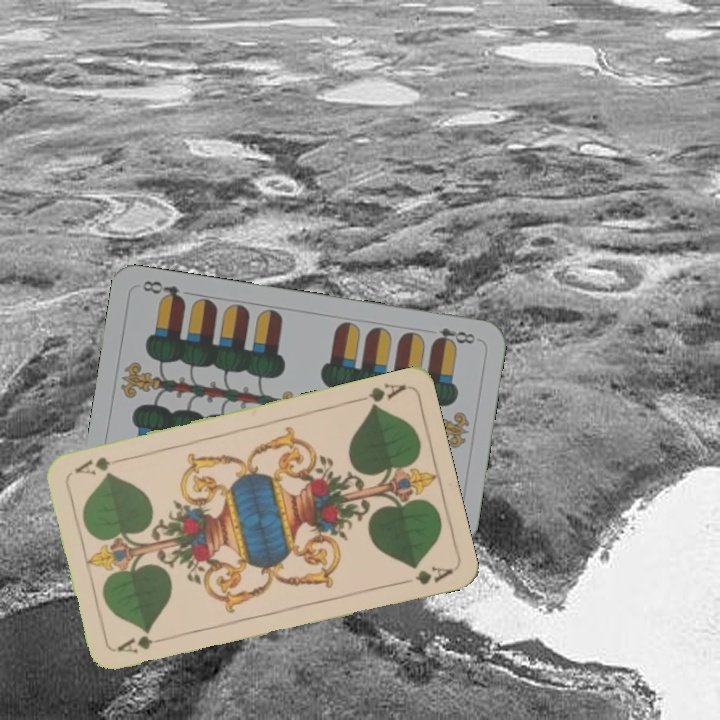E8: (429, 323, 481, 349)
GA: (350, 379, 409, 412), (113, 631, 171, 657)
